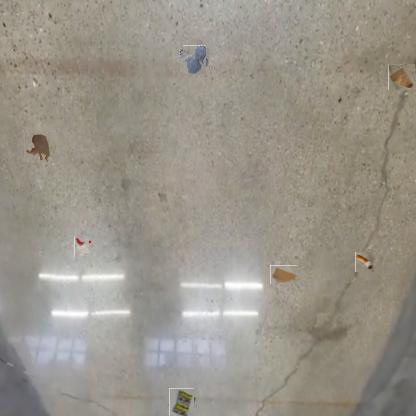dirty: (168, 388, 195, 416), (388, 64, 415, 90), (270, 265, 297, 284), (355, 252, 374, 272), (73, 237, 91, 256)
liquid: (24, 132, 50, 162), (181, 47, 208, 73)
